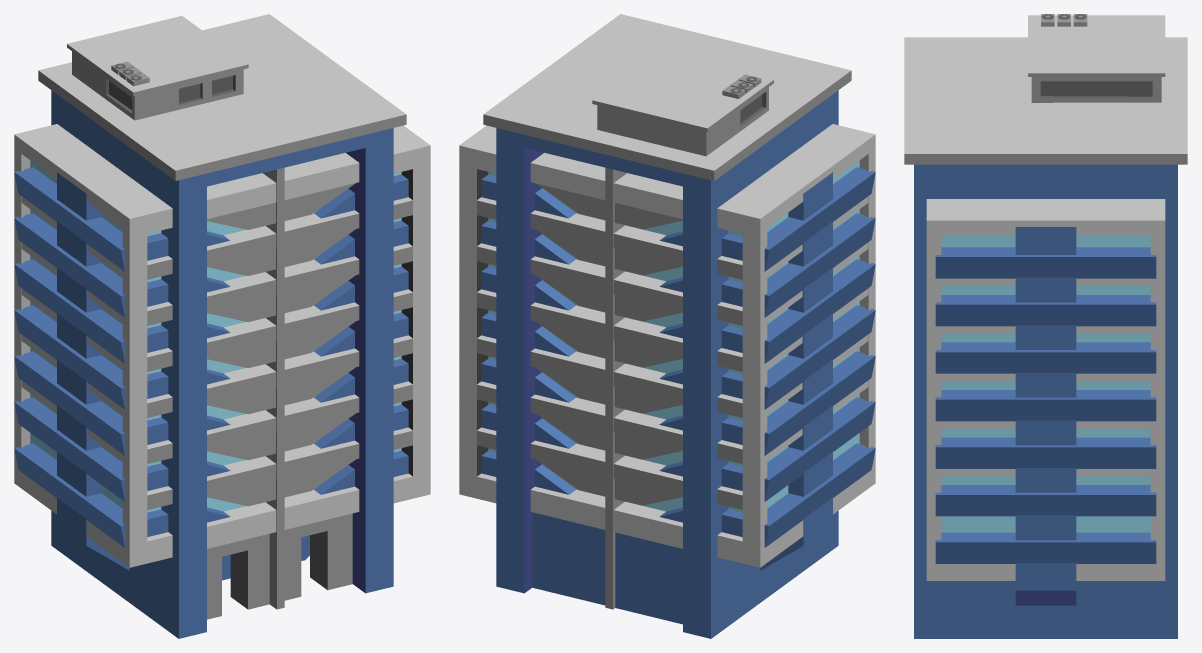
Rendered from Apartment_4.fbx.
3 views of the same model, side by side, from view 1: azimuth 30°, elevation 25°; view 2: azimuth 150°, elevation 25°; view 3: azimuth 270°, elevation 25° (orthographic). The views are drawn at different scales.
Visible parts, largest first — view 1: Apartment_4; view 2: Apartment_4; view 3: Apartment_4.
Part boxes in pixels (bbox=[...]): Apartment_4: bbox=[14, 14, 430, 638]; Apartment_4: bbox=[459, 14, 875, 638]; Apartment_4: bbox=[904, 14, 1187, 638].
Bounding box in the file's own units: 7.7 × 12.07 × 5.91.
